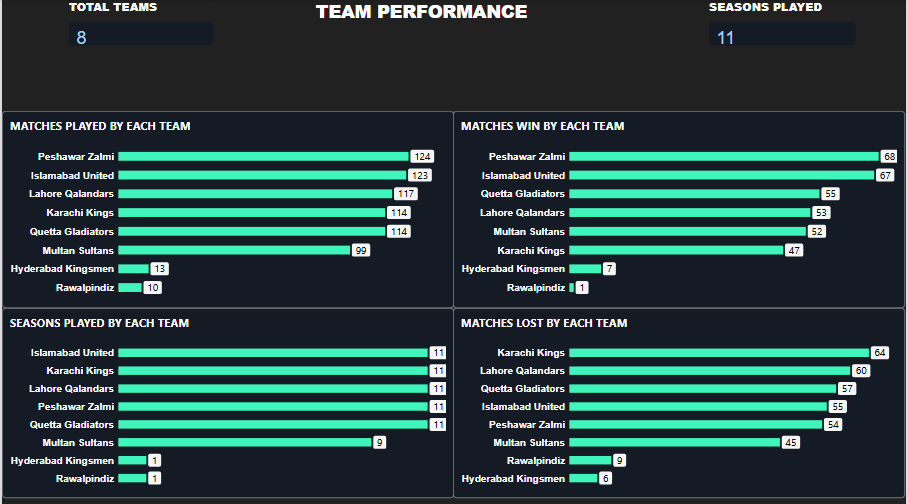

This screenshot's page, from the dashboard's own definition file:
{"tool":"powerbi","page":{"name":"Team Analysis","canvas":[1920,1080],"ordinal":4},"visuals":[{"type":"textbox","box":[659.1,0,510.2,99.9],"z":0},{"type":"cardVisual","title":"TOTAL TEAMS","fields":{"Data":["Count(PSL_teams.team)"]},"box":[142.4,0,306.1,99.9],"z":1},{"type":"clusteredBarChart","title":"MATCHES PLAYED BY EACH TEAM","fields":{"Category":["PSL_teams.team"],"Y":["Sum(PSL_teams.matches)"]},"box":[0,238.1,960.9,418.8],"z":2},{"type":"clusteredBarChart","title":"MATCHES WIN BY EACH TEAM","fields":{"Category":["PSL_teams.team"],"Y":["Sum(PSL_teams.wins)"]},"box":[958.8,238.1,960.9,418.8],"z":3},{"type":"clusteredBarChart","title":"SEASONS PLAYED BY EACH TEAM","fields":{"Category":["PSL_teams.team"],"Y":["Sum(PSL_teams.seasons_played)"]},"box":[0,656.9,960.9,403.9],"z":4},{"type":"cardVisual","title":"SEASONS PLAYED","fields":{"Data":["Count(PSL_match_players.psl_year)"]},"box":[1503.1,0,312.5,99.9],"z":5},{"type":"clusteredBarChart","title":"MATCHES LOST BY EACH TEAM","fields":{"Category":["PSL_teams.team"],"Y":["Sum(PSL_teams.losses)"]},"box":[958.8,656.9,960.9,403.9],"z":6}]}

Visuals, with their boxes in screenshot pixels (x1, y1, x2, y2), scaled from the page's 1920x1080 canvas onto the 908x504 screenshot:
textbox: bbox=[312, 0, 553, 47]
"TOTAL TEAMS" cardVisual: bbox=[67, 0, 212, 47]
"MATCHES PLAYED BY EACH TEAM" clusteredBarChart: bbox=[0, 111, 454, 307]
"MATCHES WIN BY EACH TEAM" clusteredBarChart: bbox=[453, 111, 907, 307]
"SEASONS PLAYED BY EACH TEAM" clusteredBarChart: bbox=[0, 307, 454, 495]
"SEASONS PLAYED" cardVisual: bbox=[711, 0, 859, 47]
"MATCHES LOST BY EACH TEAM" clusteredBarChart: bbox=[453, 307, 907, 495]
